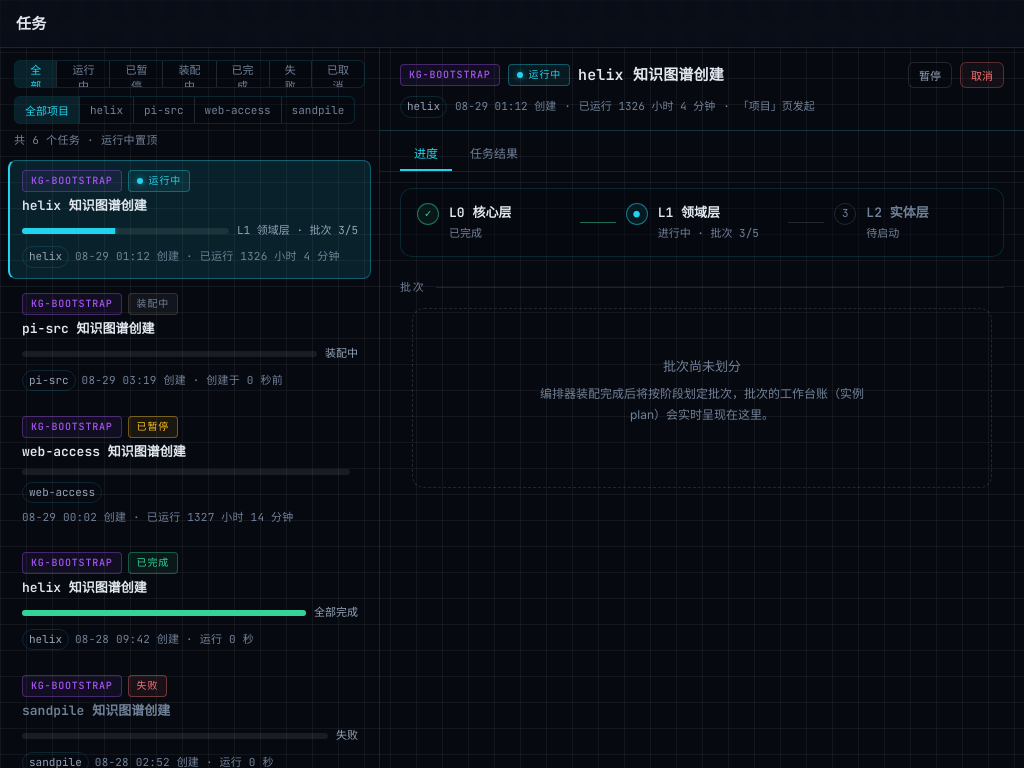
it: P-2 TasksPage：生命周期 + 删除门控（F3.5/F3.6） › running 详情：暂停+取消无删除；取消两步确认（批次收口+产出保留+不可撤销）→ 命令 + 徽章联动
Expected: the button "暂停" is shown, x1=908 y1=62 x2=952 y2=88
两步确认：先开框
Click the button "取消" at (982, 75), box x1=960 y1=62 x2=1004 y2=88
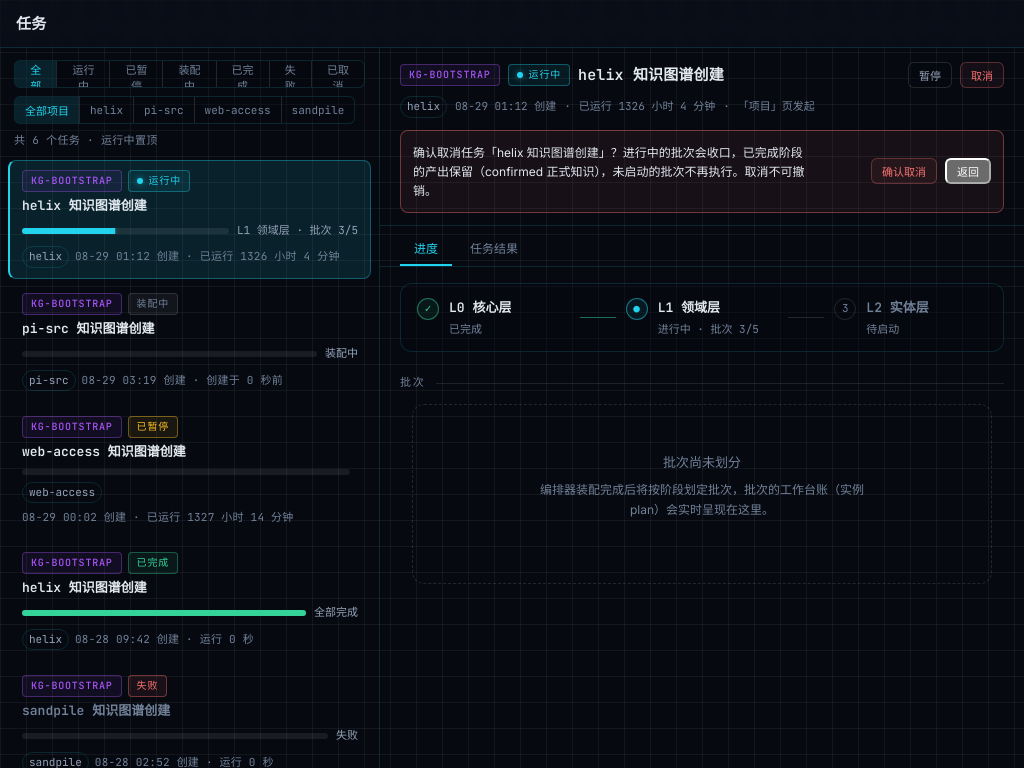
Expected: the text "进行中的批次会收口" is shown, x1=413 y1=145 x2=804 y2=198
Expected: the text "产出保留" is shown, x1=413 y1=145 x2=804 y2=198
Expected: the text "不可撤销" is shown, x1=413 y1=145 x2=804 y2=198
返回不删（框收起、零命令）
Click the button "返回" at (968, 171), box x1=945 y1=158 x2=991 y2=184
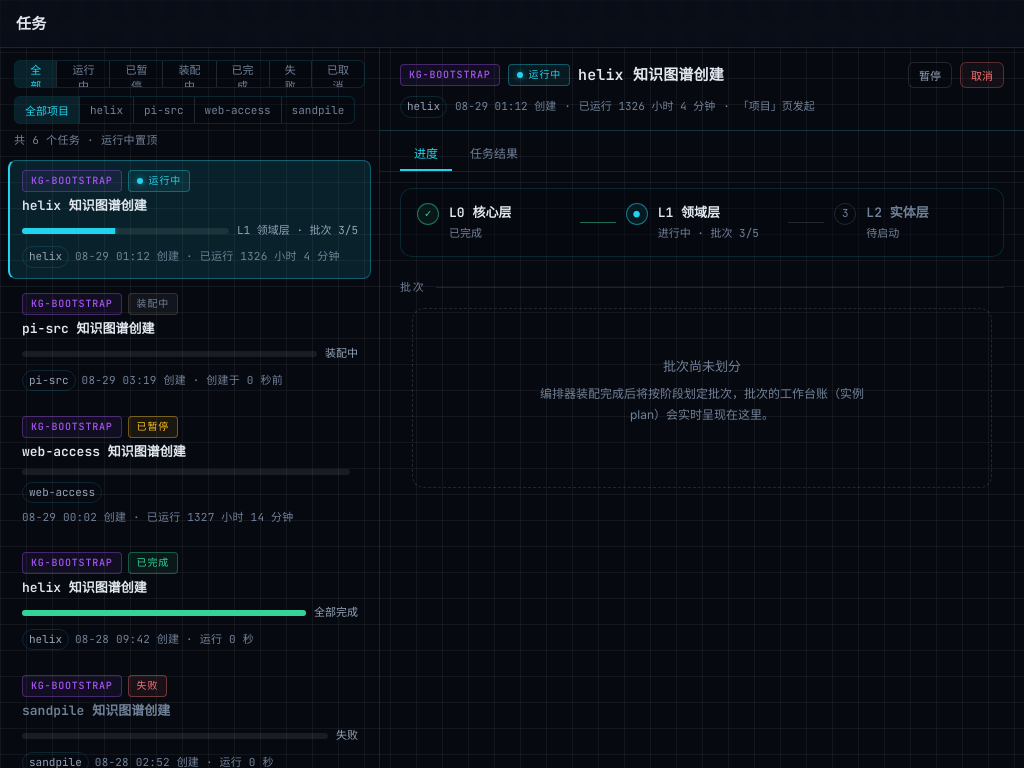
再开 → 确认取消 → 命令发出 + 回执 → 徽章/行翻已取消 + toast
Click the button "取消" at (982, 75), box x1=960 y1=62 x2=1004 y2=88
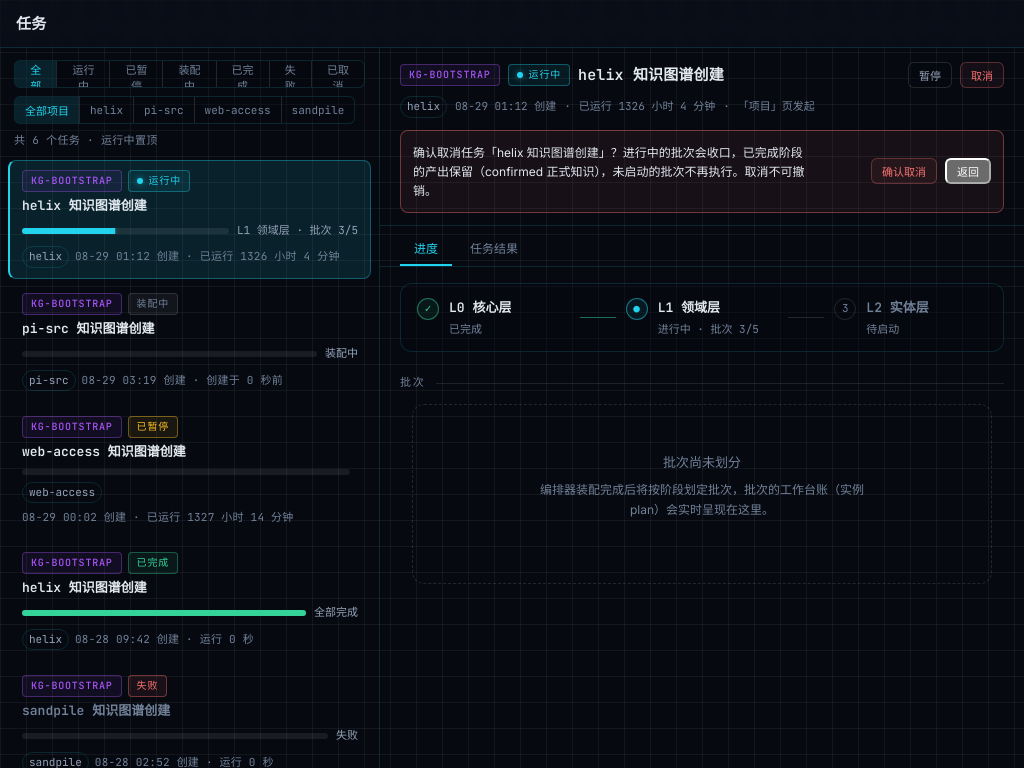
Click the button "确认取消" at (904, 171), box x1=871 y1=158 x2=937 y2=184
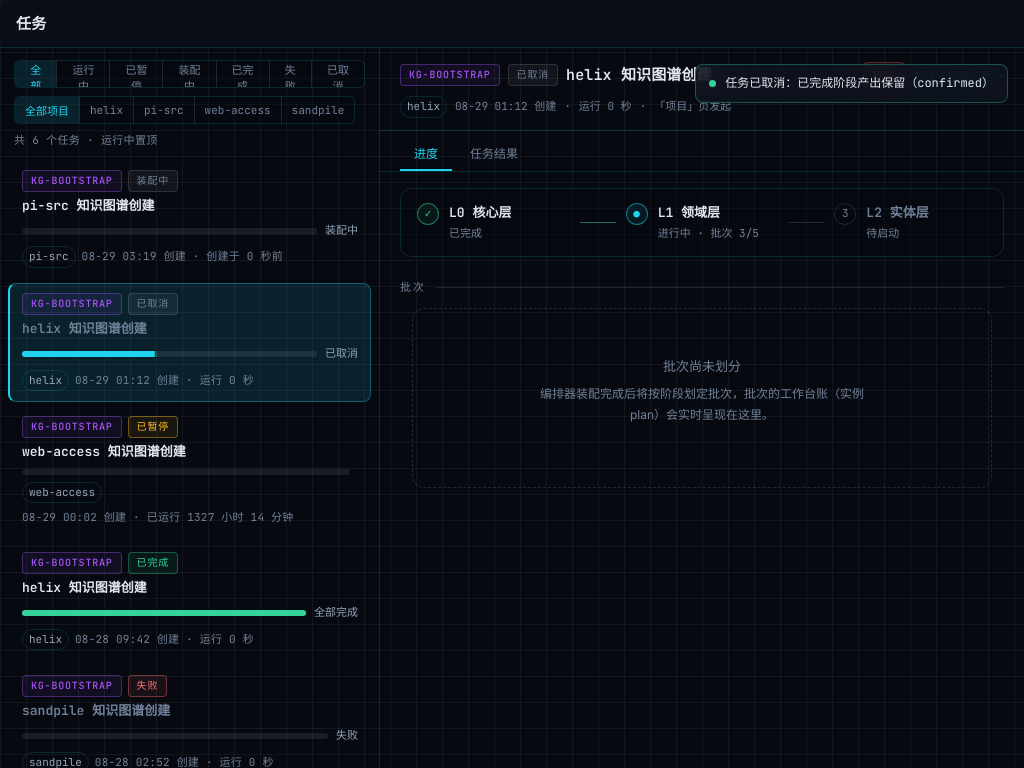
Expected: the 1st text "已取消" is shown, x1=508 y1=64 x2=558 y2=86
Expected: the text "任务已取消：已完成阶段产出保留（confirmed）" is shown, x1=725 y1=74 x2=994 y2=93
